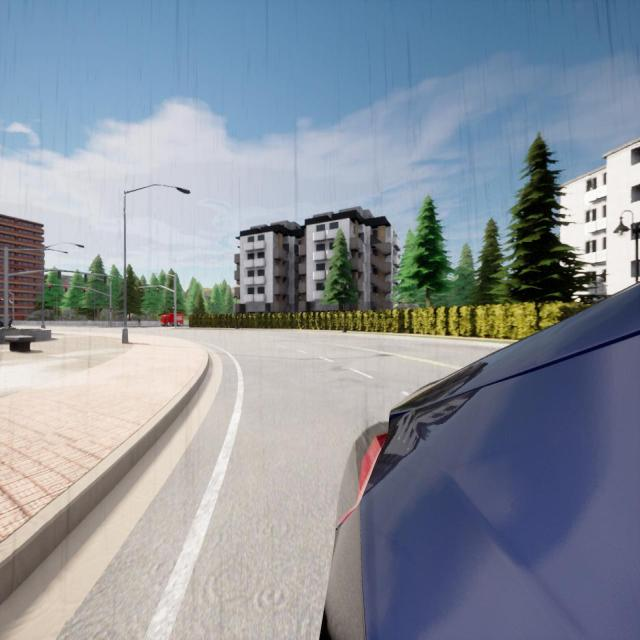Vehicle: (326, 285, 640, 638), (161, 314, 183, 326)
traffic_light: (58, 271, 61, 279), (104, 276, 107, 284), (48, 284, 51, 290), (85, 274, 87, 282), (65, 285, 67, 292), (140, 288, 142, 292), (157, 287, 159, 291), (84, 288, 85, 293), (173, 304, 174, 309), (148, 287, 149, 292), (111, 308, 112, 312)
